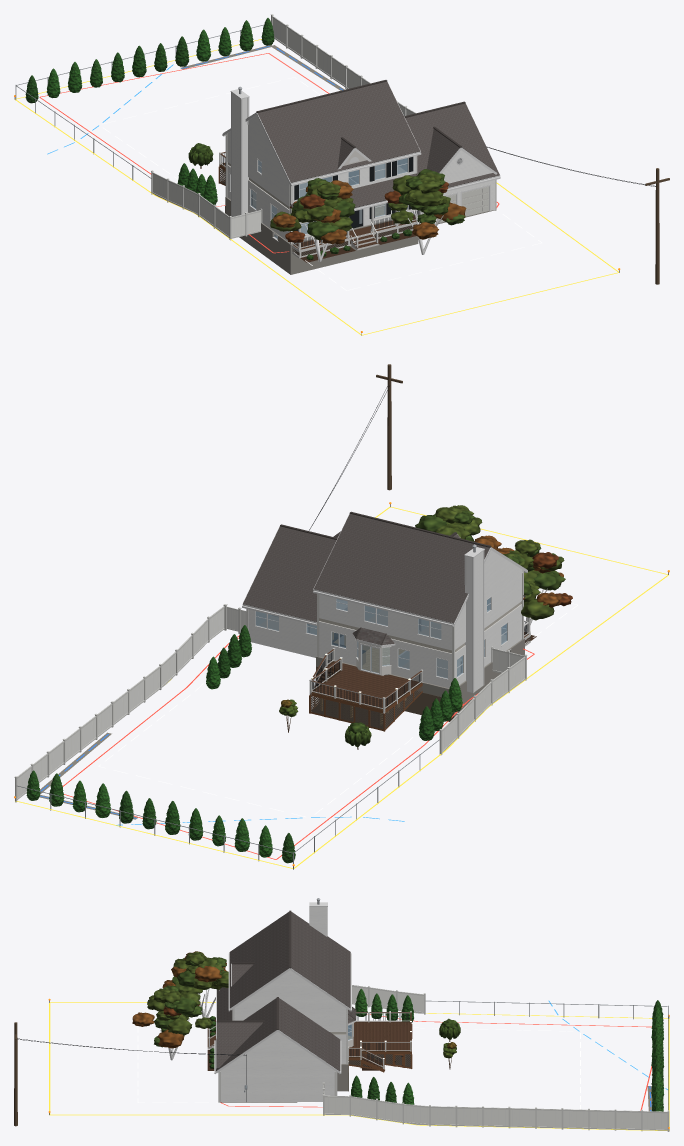
Rendered from house.fbx.
3 renders of one model, top to bottom at view 1: azimuth 30°, elevation 25°; view 2: azimuth 150°, elevation 25°; view 3: azimuth 270°, elevation 25°, orthographic. The views are drawn at different scales.
Parts seen in each view (by area): view 1: main_roof, garage_roof, japanese_maple_01, japanese_maple_02, B, fence_vinyl_01, L2, chimney, fence_vinyl_02, survey_lines_and_markers, L1, L1_front_porch (+6 smaller); view 2: main_roof, L1, garage_roof, fence_vinyl_02, L2, deck, japanese_maple_01, chimney, fence_vinyl_01, room_deck, survey_lines_and_markers, japanese_maple_02 (+5 smaller); view 3: main_roof, fence_vinyl_02, garage_roof, L1, japanese_maple_02, survey_lines_and_markers, japanese_maple_01, deck, room_deck, L2, fence_vinyl_01, gate_pole_and_service (+6 smaller).
Boxes of the visible parts, left/top/right/bottom form: main_roof: left=222, top=80, right=421, bottom=186; garage_roof: left=404, top=101, right=500, bottom=191; japanese_maple_01: left=270, top=178, right=355, bottom=261; japanese_maple_02: left=384, top=169, right=466, bottom=254; B: left=225, top=197, right=418, bottom=274; fence_vinyl_01: left=151, top=170, right=262, bottom=240; L2: left=227, top=133, right=415, bottom=206; chimney: left=230, top=86, right=249, bottom=216; fence_vinyl_02: left=271, top=14, right=416, bottom=116; survey_lines_and_markers: left=14, top=39, right=620, bottom=335; L1: left=227, top=164, right=494, bottom=242; L1_front_porch: left=292, top=215, right=417, bottom=258; main_roof: left=313, top=511, right=527, bottom=626; L1: left=248, top=604, right=521, bottom=688; garage_roof: left=242, top=524, right=340, bottom=625; fence_vinyl_02: left=14, top=604, right=224, bottom=802; L2: left=319, top=569, right=522, bottom=650; deck: left=309, top=648, right=423, bottom=731; japanese_maple_01: left=496, top=539, right=572, bottom=630; chimney: left=464, top=544, right=484, bottom=693; fence_vinyl_01: left=439, top=646, right=527, bottom=755; room_deck: left=314, top=661, right=418, bottom=707; survey_lines_and_markers: left=14, top=502, right=669, bottom=869; japanese_maple_02: left=415, top=505, right=501, bottom=549; main_roof: left=228, top=910, right=351, bottom=1011; fence_vinyl_02: left=323, top=1095, right=669, bottom=1131; garage_roof: left=214, top=997, right=341, bottom=1073; L1: left=220, top=1023, right=353, bottom=1101; japanese_maple_02: left=132, top=985, right=212, bottom=1060; survey_lines_and_markers: left=48, top=998, right=669, bottom=1130; japanese_maple_01: left=162, top=951, right=228, bottom=1017; deck: left=348, top=1011, right=412, bottom=1072; room_deck: left=349, top=1022, right=409, bottom=1056; L2: left=234, top=1006, right=346, bottom=1031; fence_vinyl_01: left=352, top=985, right=425, bottom=1014; gate_pole_and_service: left=14, top=1022, right=324, bottom=1126.
Size of what is drawn, in the model's own units: 94.54 by 42.62 by 185.
Materials: 107 (9 with a texture image).
